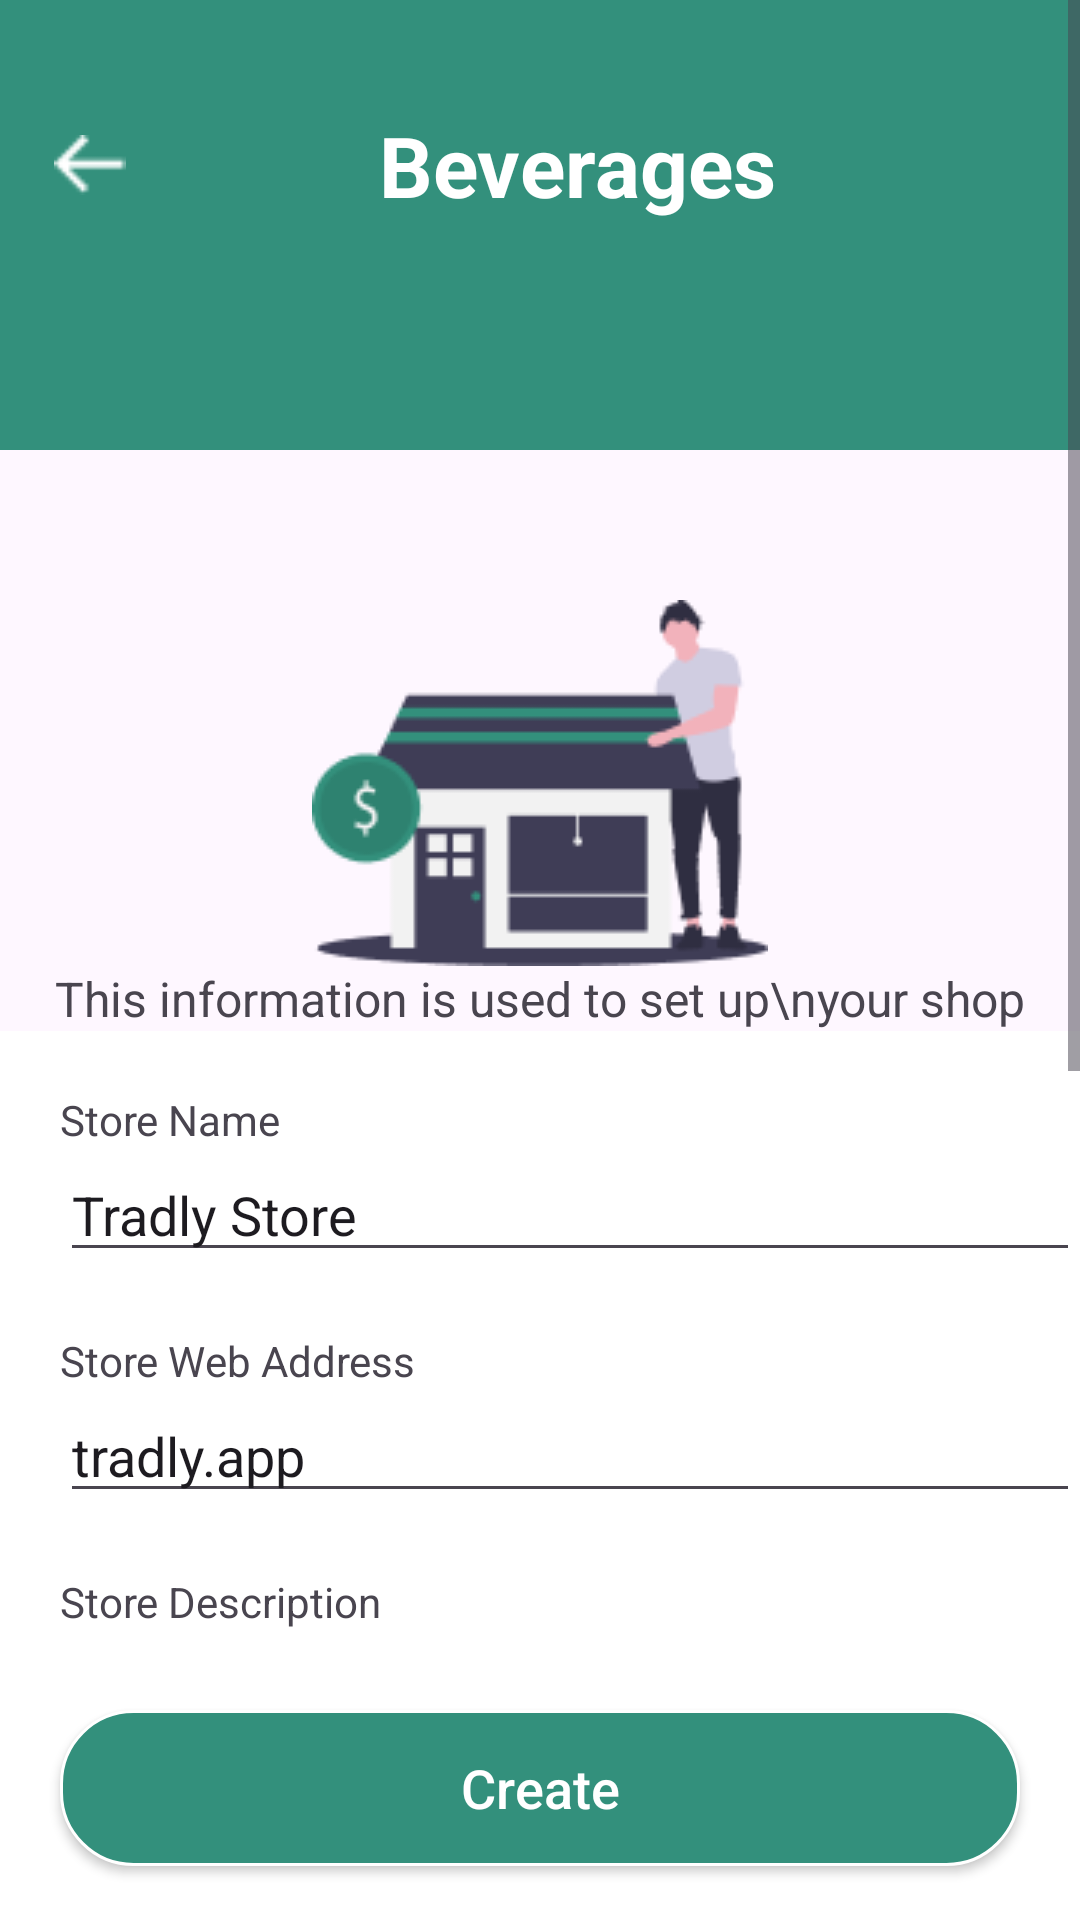

Where icons sit on this 1080w x 1920h app screen, as bbox(x1, y1, x2, y2):
back: bbox(54, 135, 126, 193)
